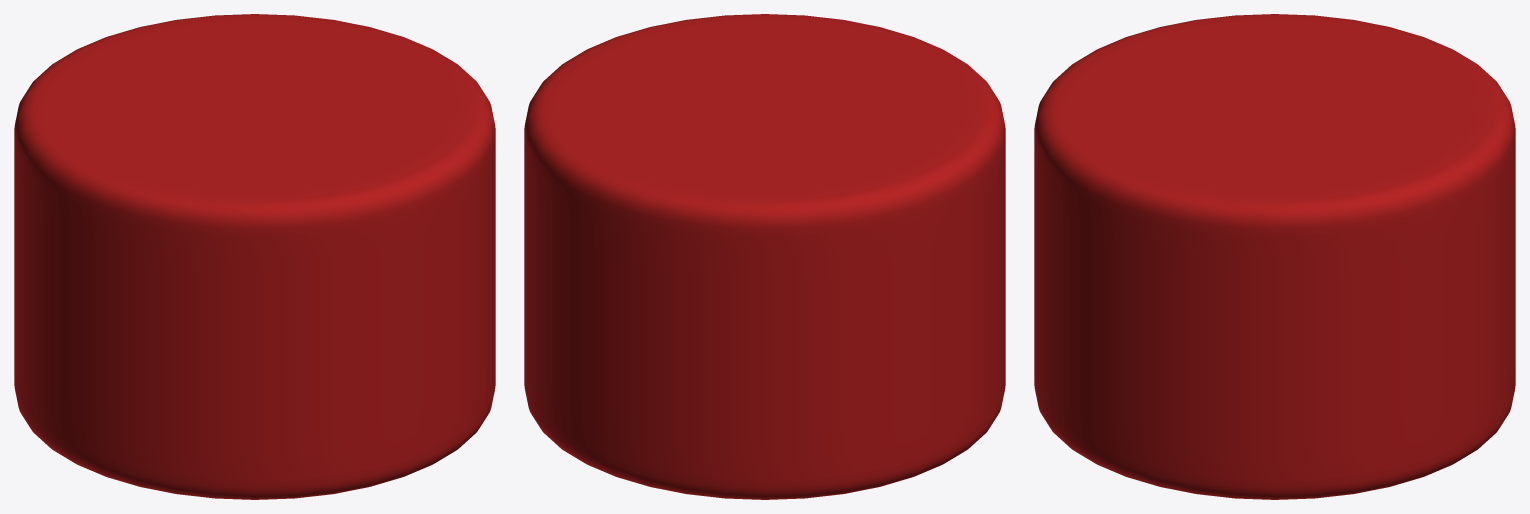
File: Metal Chair.obj
3 renders of one model, left to right at view 1: azimuth 30°, elevation 25°; view 2: azimuth 150°, elevation 25°; view 3: azimuth 270°, elevation 25°, orthographic.
Parts seen in each view (by area): view 1: Cylinder005; view 2: Cylinder005; view 3: Cylinder005.
Boxes of the visible parts, <box> form: Cylinder005: <box>14,14,495,499</box>; Cylinder005: <box>524,14,1005,499</box>; Cylinder005: <box>1034,14,1515,499</box>.
Bounding box in the file's own units: 150 × 102 × 150.
